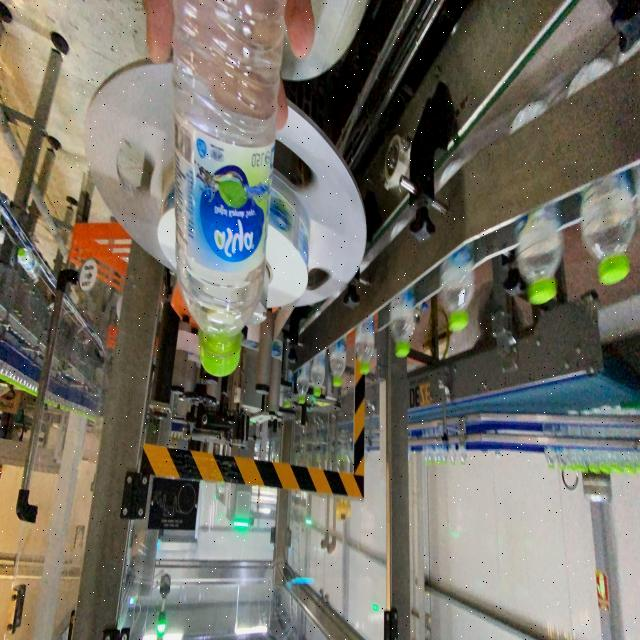bottle: (162, 0, 294, 370)
cap: (196, 338, 246, 380)
label: (160, 130, 284, 272)
